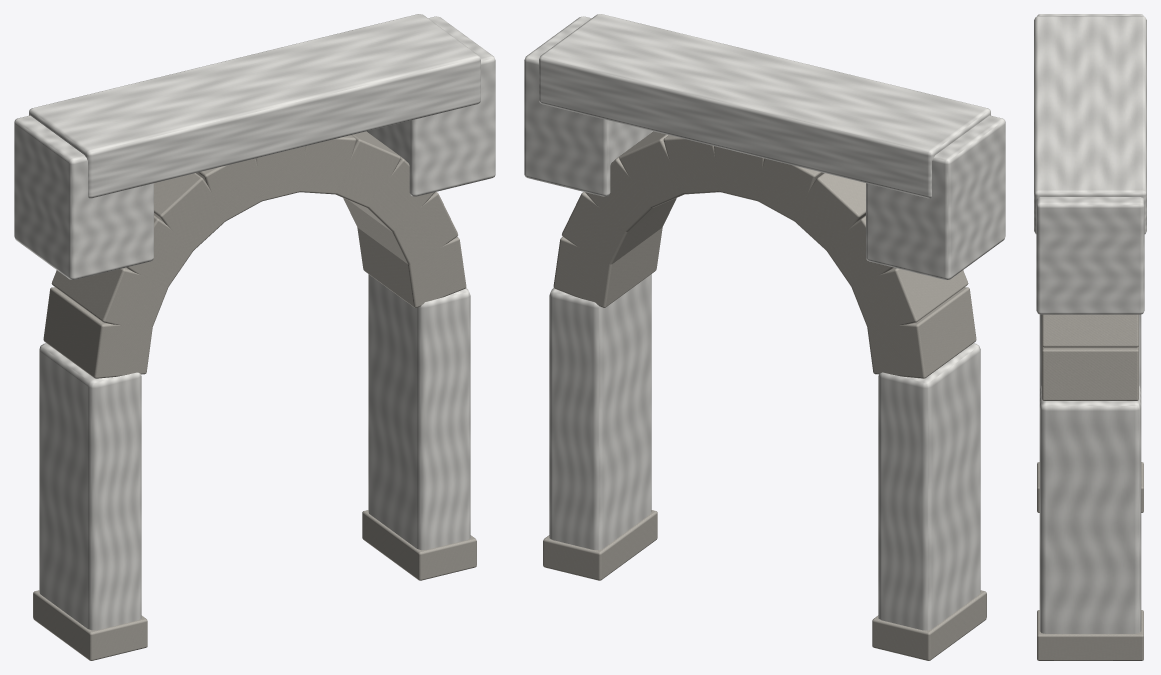
File: greek-island-village-and-harbour-stone-arch-37b0aed6__37073.glb
3 views of the same model, side by side, from view 1: azimuth 30°, elevation 25°; view 2: azimuth 150°, elevation 25°; view 3: azimuth 270°, elevation 25° (orthographic). The views are drawn at different scales.
Visible parts, largest first — view 1: stone-arch; view 2: stone-arch; view 3: stone-arch.
Boxes of the visible parts, <box> form: stone-arch: <box>14,14,495,660</box>; stone-arch: <box>524,14,1005,660</box>; stone-arch: <box>1034,14,1146,660</box>.
Bounding box in the file's own units: 4.02 × 4.61 × 1.
2 materials, 2 textured.
